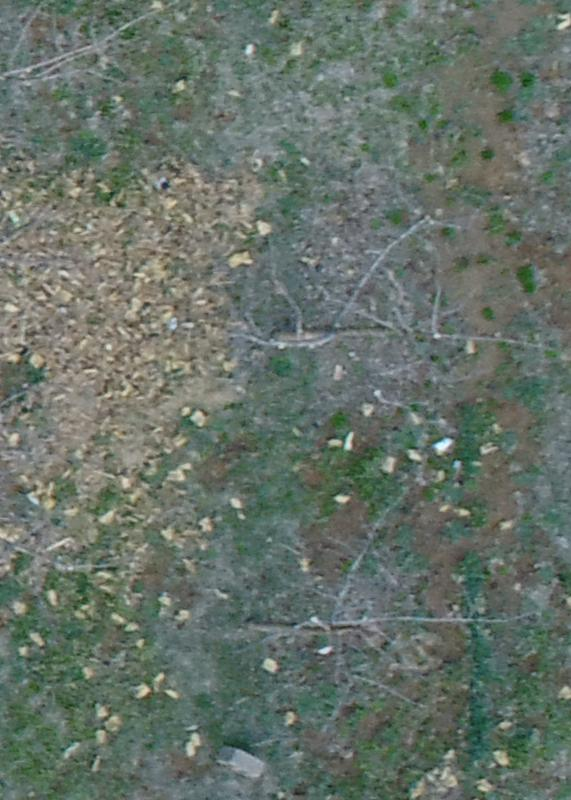apple: (198, 499, 511, 748), (204, 233, 561, 413)
